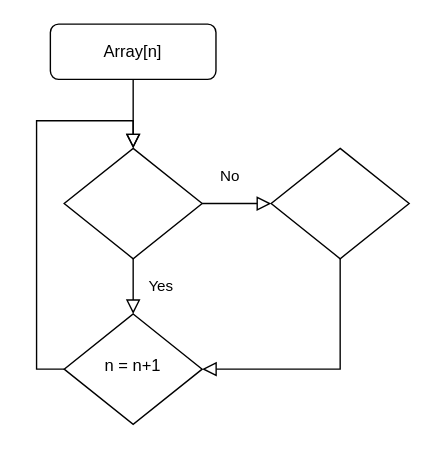
Some shapes in this 433 by 449 pixel diagram are drawn without their labels. Here are the shapes that lost their labels. From the top down, the box of each, then its label:
(63, 147, 202, 259): [n] < [n+1]
(270, 147, 409, 259): swap [n] with [n+1]
